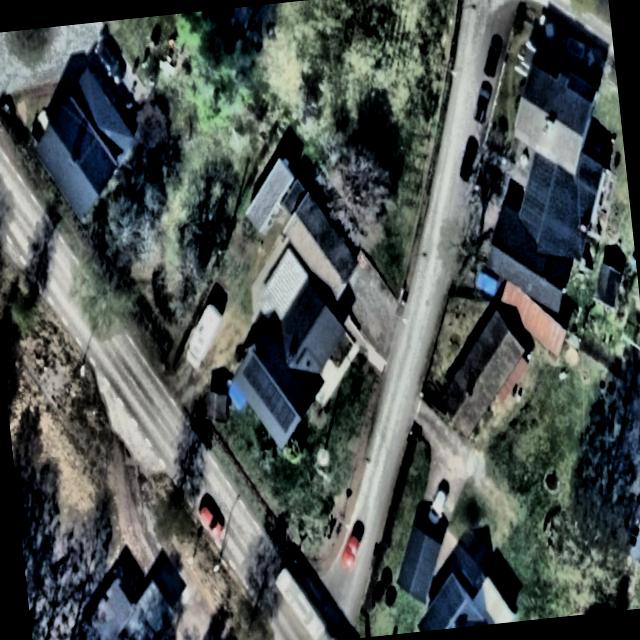roof_pv: (258, 380, 298, 430), (240, 352, 274, 399)
